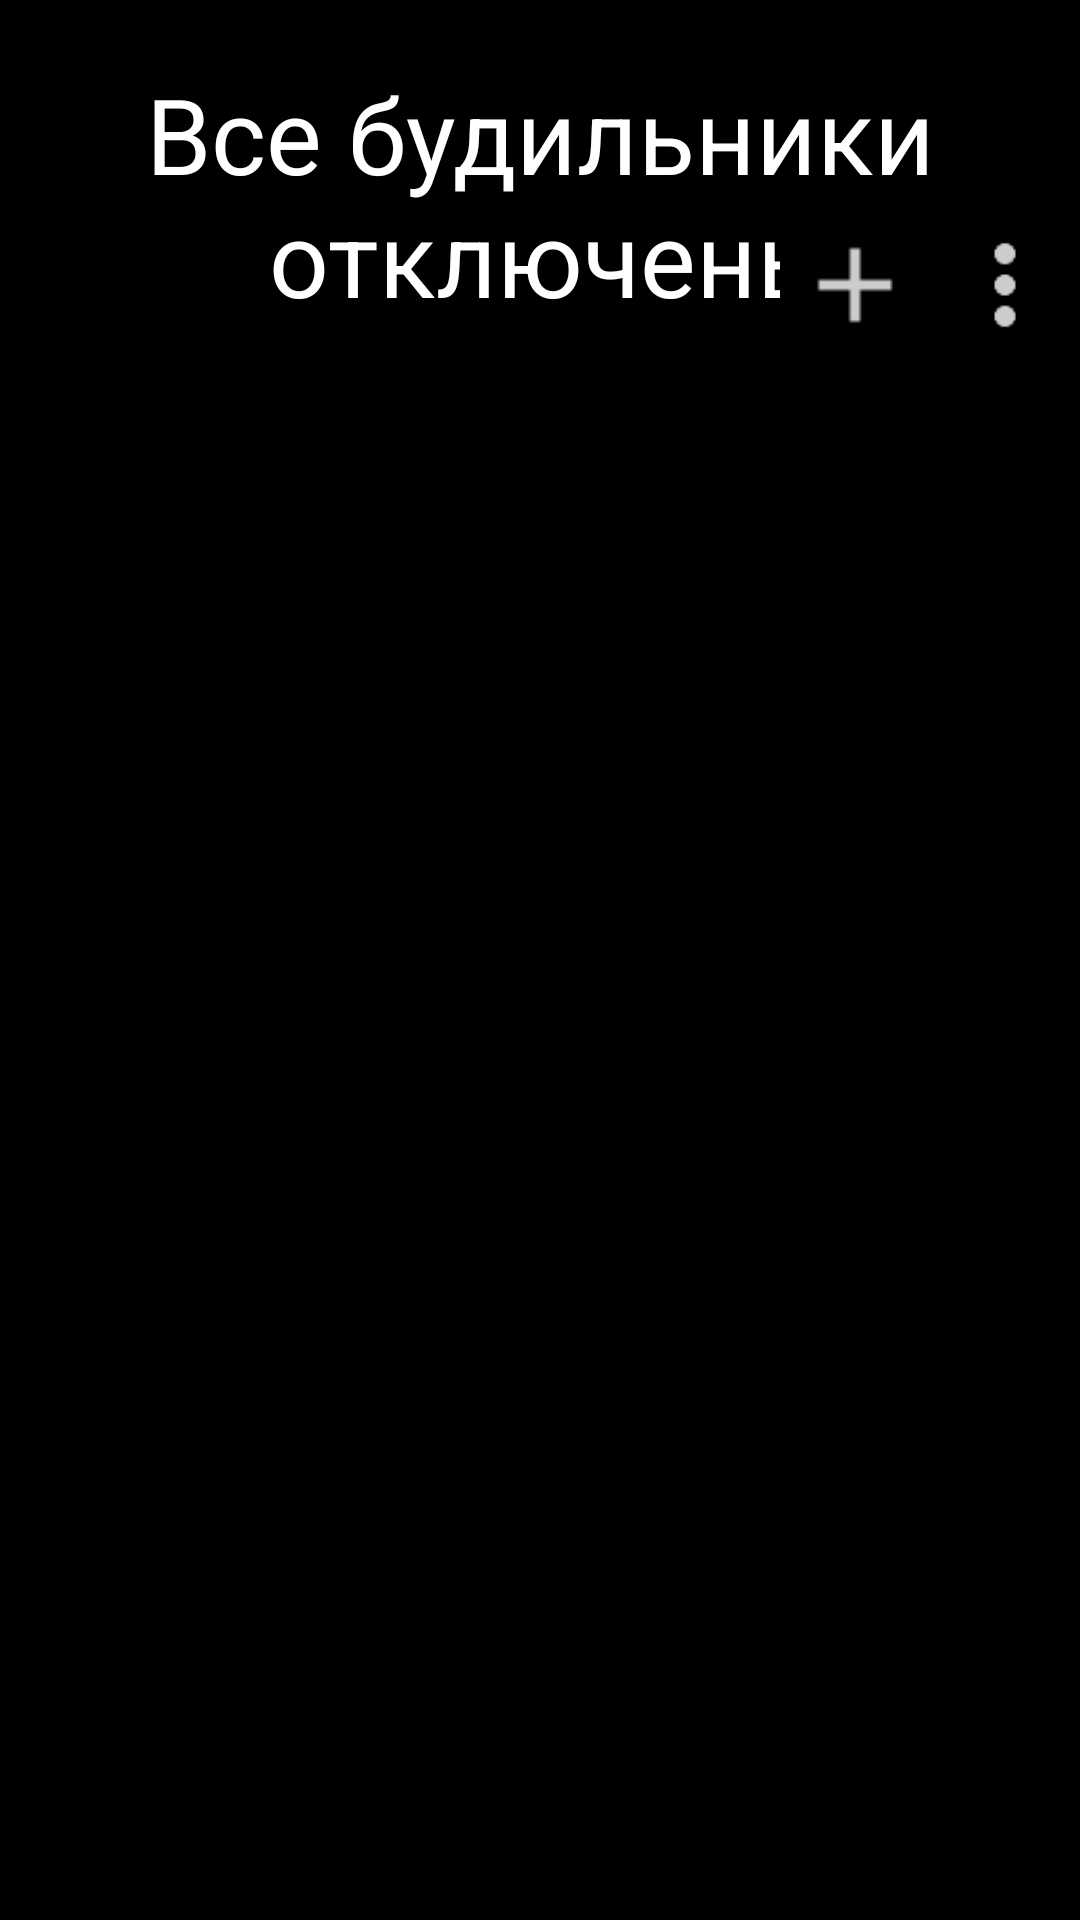

Locate icon controls on the screen. Image size 1080*1920, boxes as (x1, y1, x2, y2).
Добавить будильник: (817, 247, 893, 323)
Другие параметры: (994, 243, 1016, 327)
